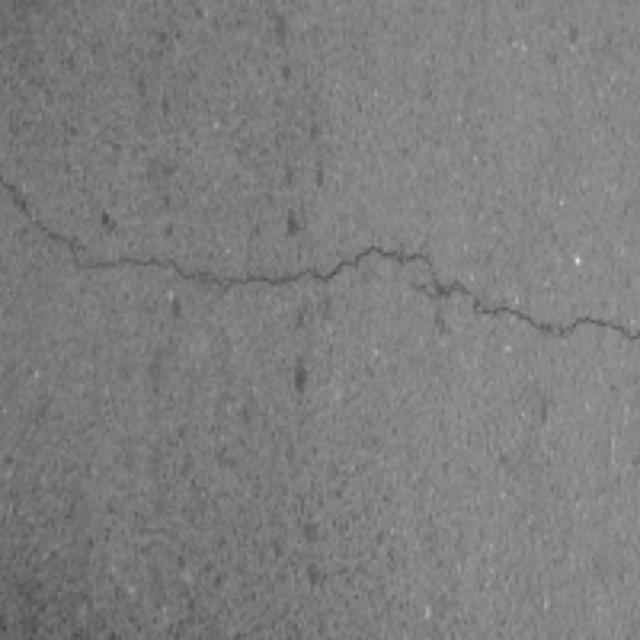Crack: (0, 139, 640, 396)
